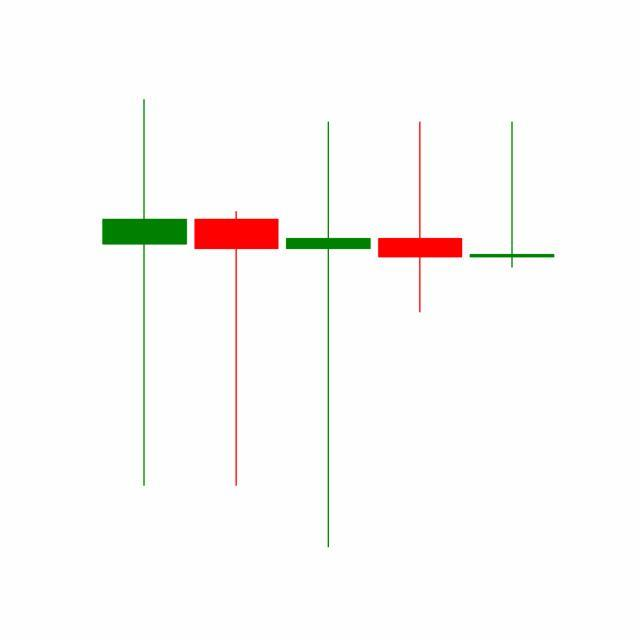Gravestone Doji: (466, 121, 559, 271)
